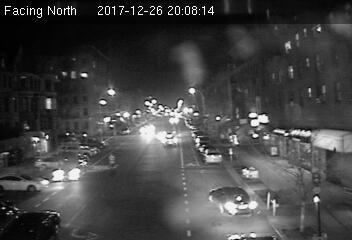car: (211, 184, 258, 219), (52, 161, 87, 182), (202, 149, 223, 165), (160, 133, 179, 147)
